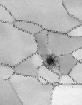good_void: (42, 52, 60, 70)
